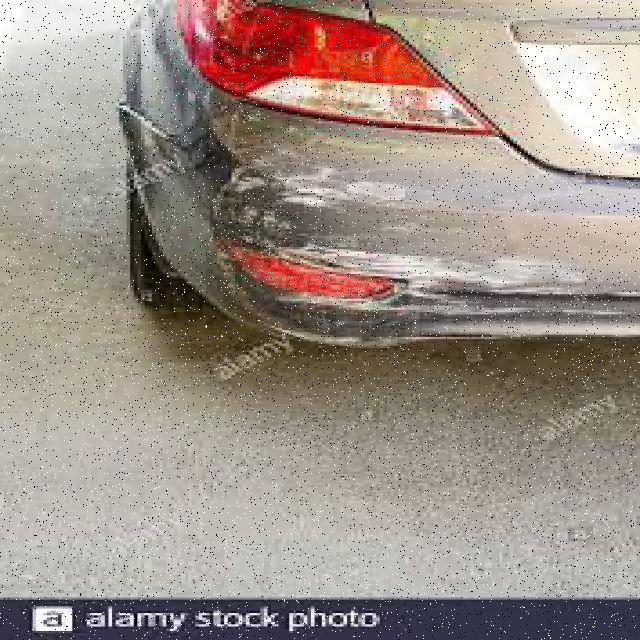rear-bumper-dent: (98, 103, 636, 402)
